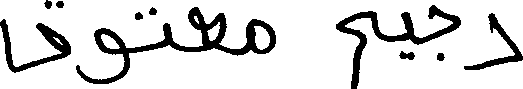ت: (134, 7, 172, 48)
ج: (425, 3, 459, 61)
ر: (463, 10, 522, 69)
ع: (186, 5, 226, 54)
ق: (0, 0, 69, 74)
م: (333, 9, 376, 87), (245, 16, 275, 53)
و: (91, 26, 130, 84)
ي: (399, 9, 415, 60)
